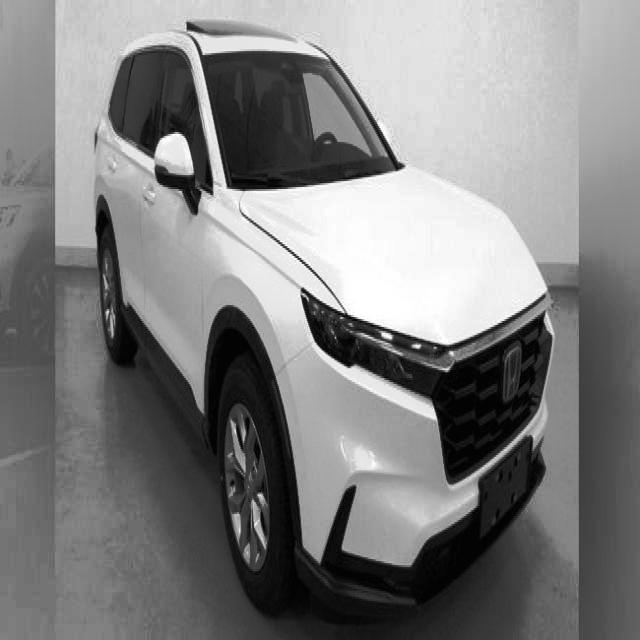Car: (78, 9, 560, 640)
